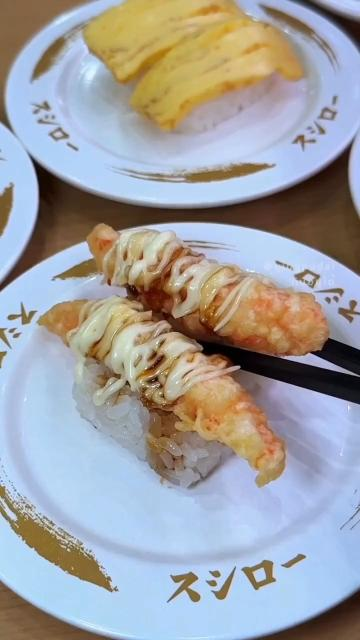janwhite: (0, 490, 360, 640), (79, 99, 342, 209), (0, 0, 85, 193), (0, 267, 64, 496), (284, 0, 360, 128), (0, 105, 40, 281), (329, 216, 360, 342), (346, 129, 360, 234)
